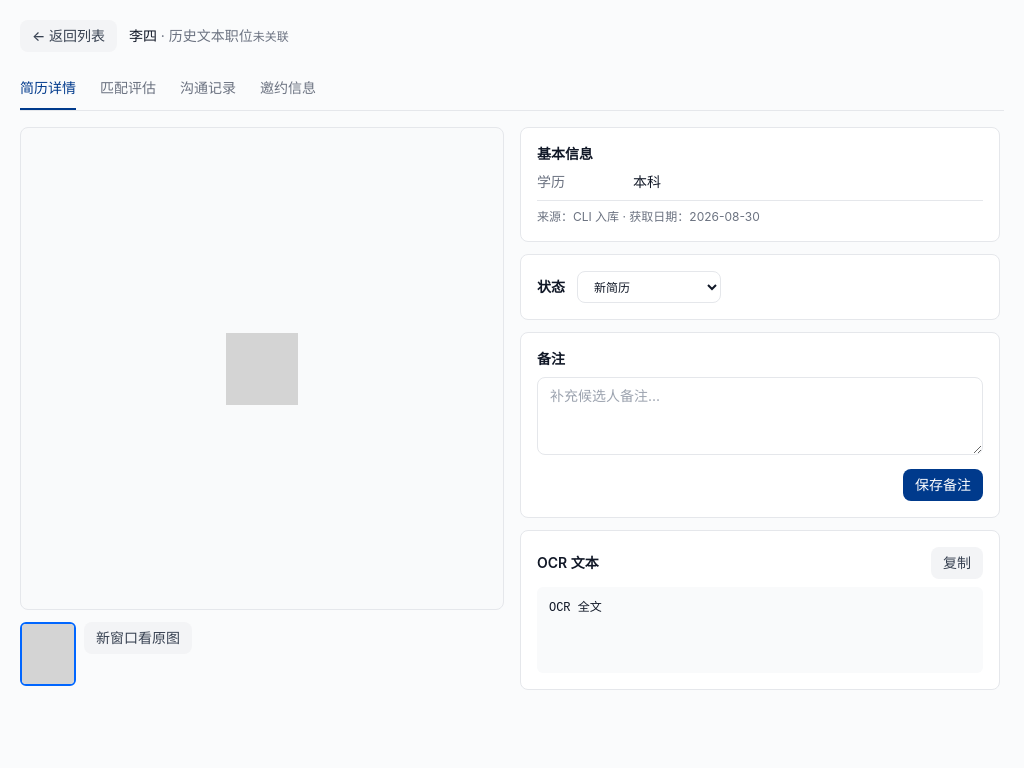
Test: ResumeDetail 挂载冒烟 › 未关联职位时显示「未关联」；匹配评估 tab 渲染关键信息
Note: 切到匹配评估 tab
Click the button "匹配评估".
click(128, 89)  # box top-left (100, 68), bottom-right (156, 110)
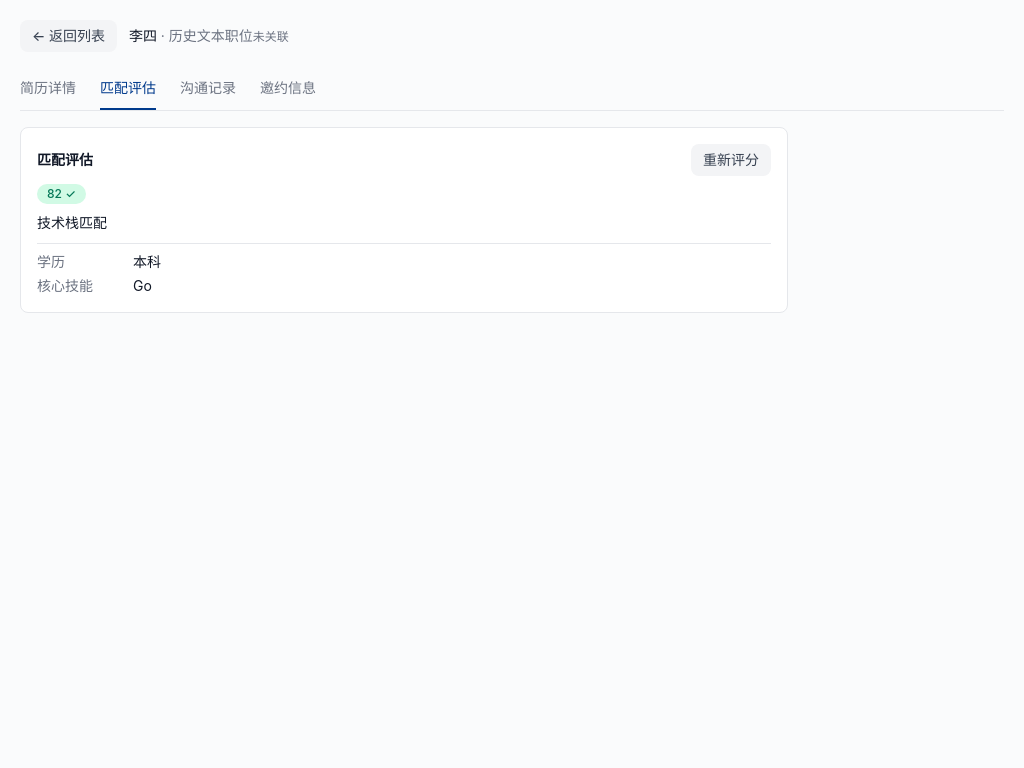
Now the text "82 ✓" is shown, box top-left (37, 184), bottom-right (86, 204)
Now the text "技术栈匹配" is shown, box top-left (37, 214), bottom-right (107, 231)
Now the text "核心技能" is shown, box top-left (37, 277), bottom-right (93, 294)
